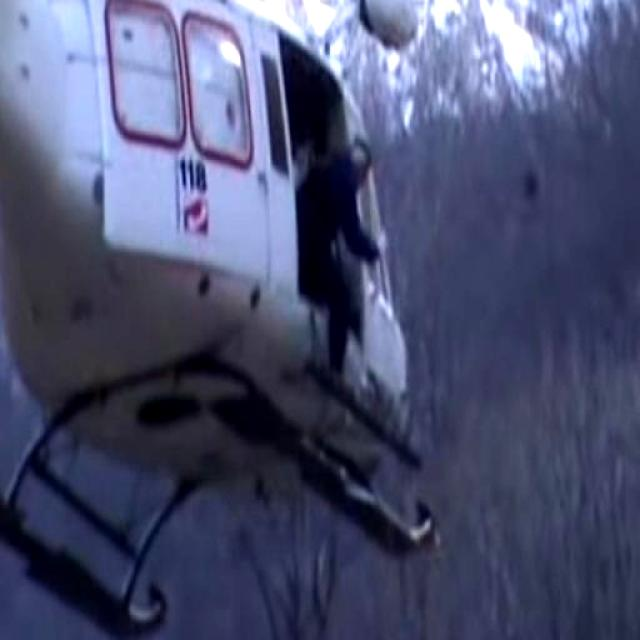drone: (0, 0, 475, 640)
